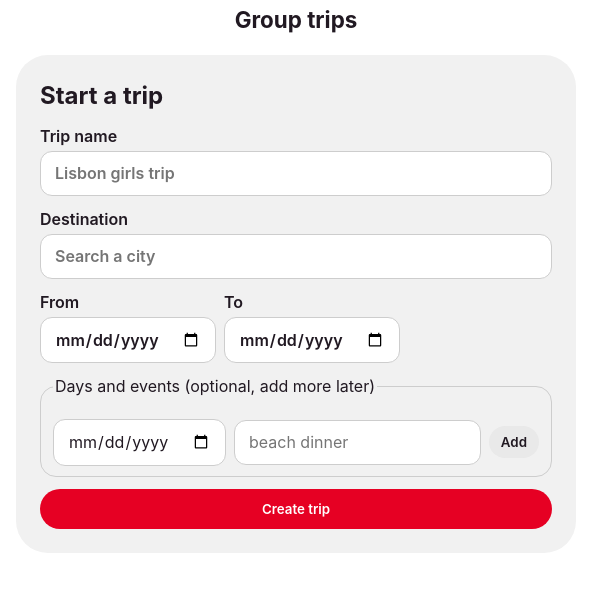
Test: destination search › discards old city results after the destination changes
Type "Lis" into the field labelled "Destination".
click(296, 256); type("Lis")  # box [40,234,552,278]
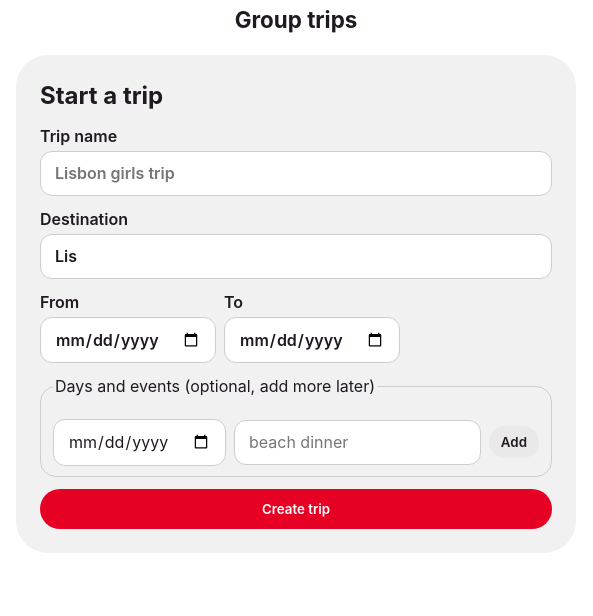
Replace the text in the field labelled "Destination" with "Par" at (296, 256), box [40,234,552,278]
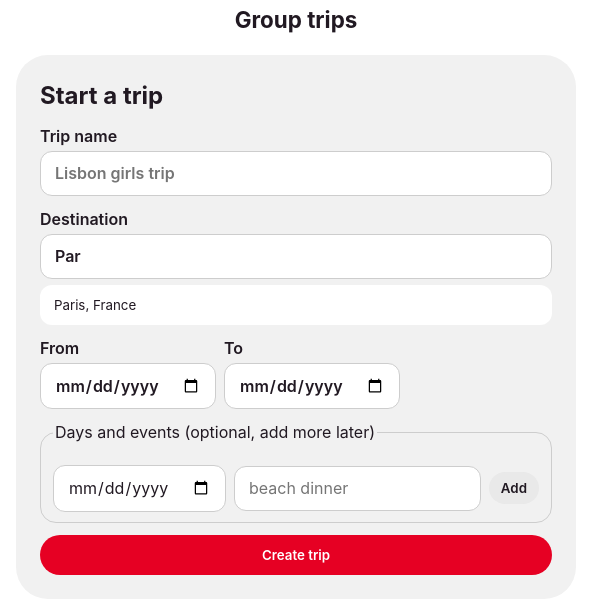
Result: the button "Paris, France" is shown at [44,288,548,320]
